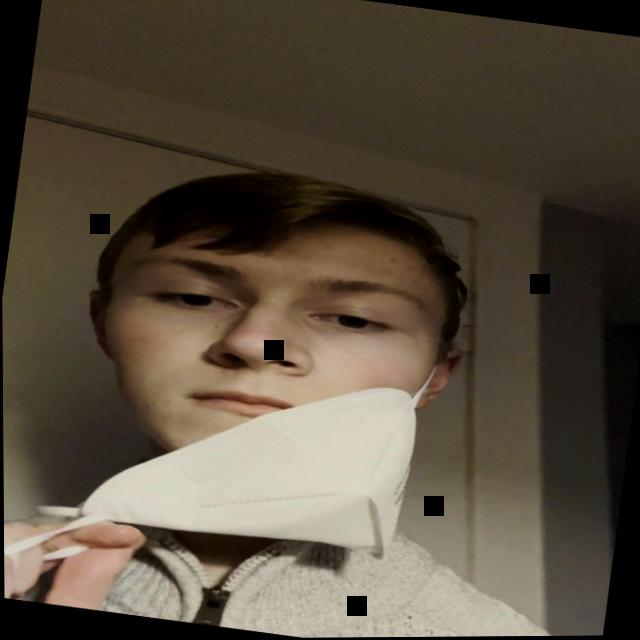NO-Mask: (50, 153, 505, 570)
